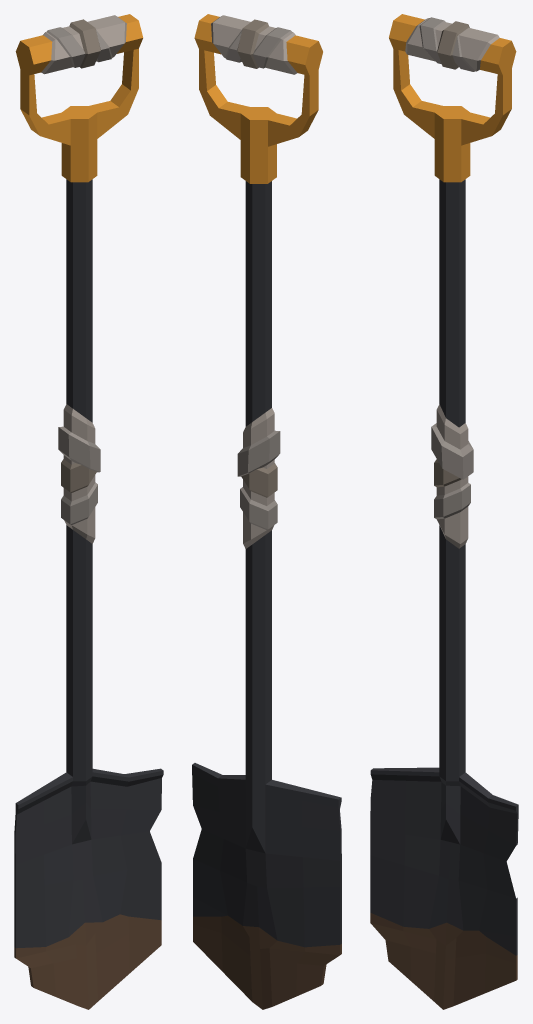
The model's file is SM_Shovel.gltf.
3 views of the same model, side by side, from view 1: azimuth 30°, elevation 25°; view 2: azimuth 150°, elevation 25°; view 3: azimuth 330°, elevation 25° (orthographic).
Parts seen in each view (by area): view 1: SM_Shovel; view 2: SM_Shovel; view 3: SM_Shovel.
Part boxes in pixels (left/top/right/bottom): SM_Shovel: left=14, top=14, right=163, bottom=1009; SM_Shovel: left=192, top=14, right=341, bottom=1009; SM_Shovel: left=370, top=14, right=518, bottom=1009.
Bounding box in the file's own units: 0.2396 × 1.53 × 0.067.
Materials: 1 (1 with a texture image).
